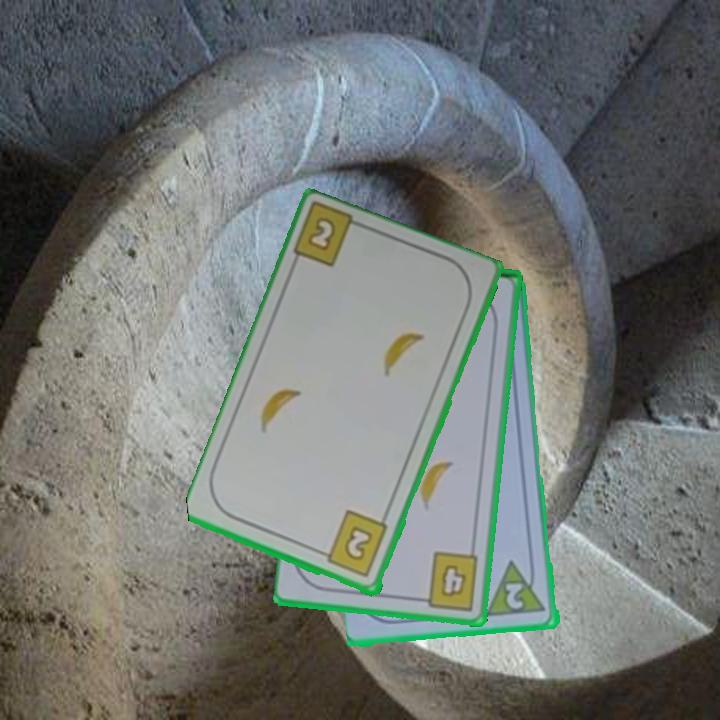2b: (316, 508, 391, 581), (304, 214, 339, 255)
2p: (485, 557, 549, 620)
4b: (415, 548, 482, 613)
